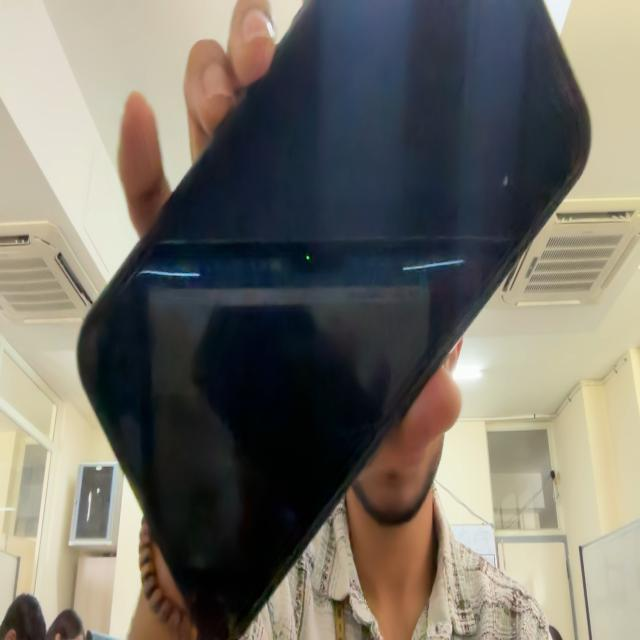Useful: (78, 0, 590, 639)
